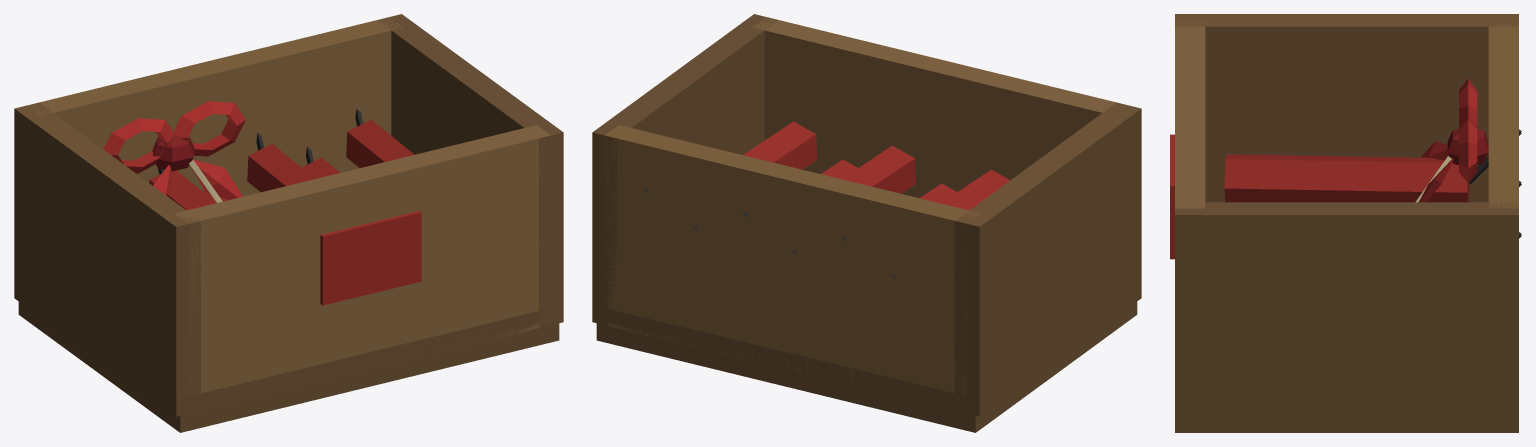
File: quest_fireworks.glb
3 views of the same model, side by side, from view 1: azimuth 30°, elevation 25°; view 2: azimuth 150°, elevation 25°; view 3: azimuth 270°, elevation 25° (orthographic). The views are drawn at different scales.
Parts seen in each view (by area): view 1: quest_fireworks; view 2: quest_fireworks; view 3: quest_fireworks.
Part boxes in pixels (box(x1,y1,x2,y2)): quest_fireworks: box(14, 14, 563, 432); quest_fireworks: box(592, 14, 1141, 432); quest_fireworks: box(1170, 14, 1521, 432).
Size of the model in its own units: 0.4 by 0.2043 by 0.296.
